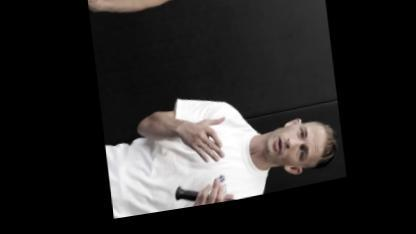knife: (166, 173, 260, 214)
